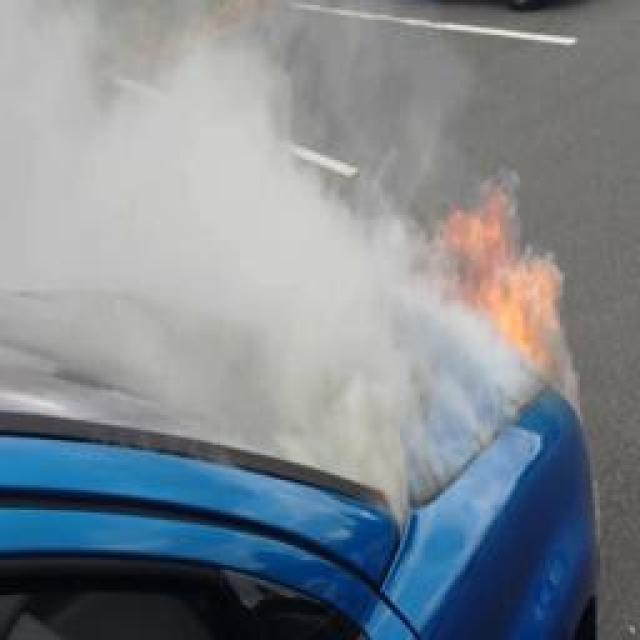Fire: (442, 188, 560, 360)
Smoke: (16, 45, 262, 367)
